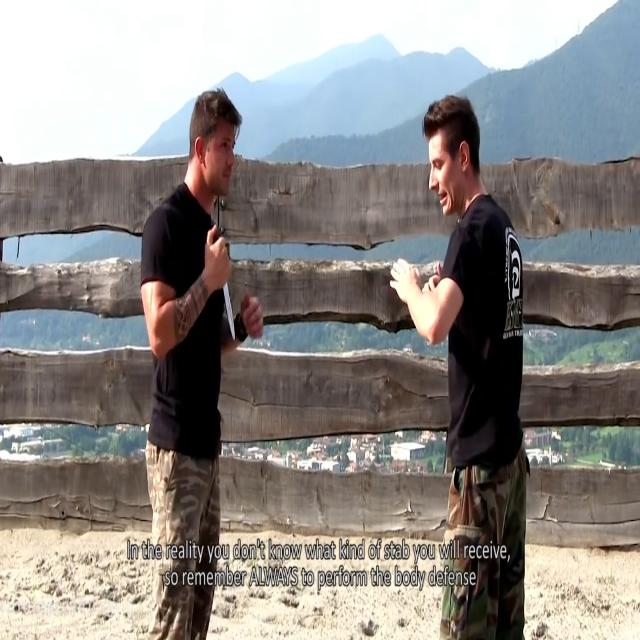knife: (224, 281, 240, 345)
